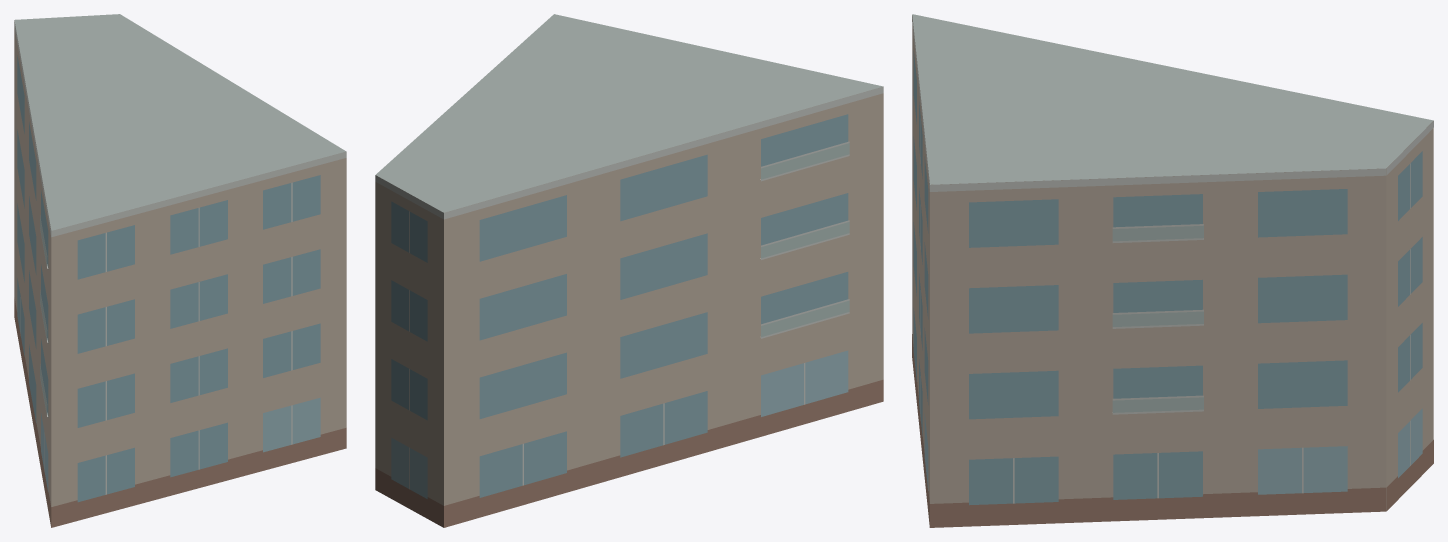
File: survey-upis-32636064.glb
3 views of the same model, side by side, from view 1: azimuth 30°, elevation 25°; view 2: azimuth 150°, elevation 25°; view 3: azimuth 270°, elevation 25° (orthographic). The views are drawn at different scales.
Parts seen in each view (by area): view 1: survey-upis-32636064.tmp; view 2: survey-upis-32636064.tmp; view 3: survey-upis-32636064.tmp.
Part boxes in pixels (x1=…): survey-upis-32636064.tmp: x1=14, y1=14, x2=346, y2=527; survey-upis-32636064.tmp: x1=375, y1=14, x2=883, y2=527; survey-upis-32636064.tmp: x1=912, y1=14, x2=1433, y2=527.
Size of the model in its own units: 12.29 by 11.5 by 15.86.
